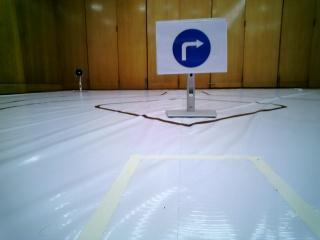right: (159, 23, 222, 70)
